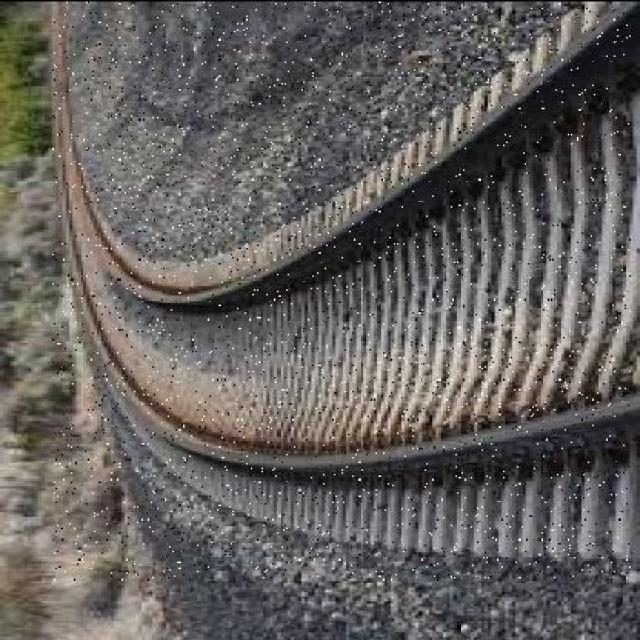rail: (54, 1, 632, 579)
